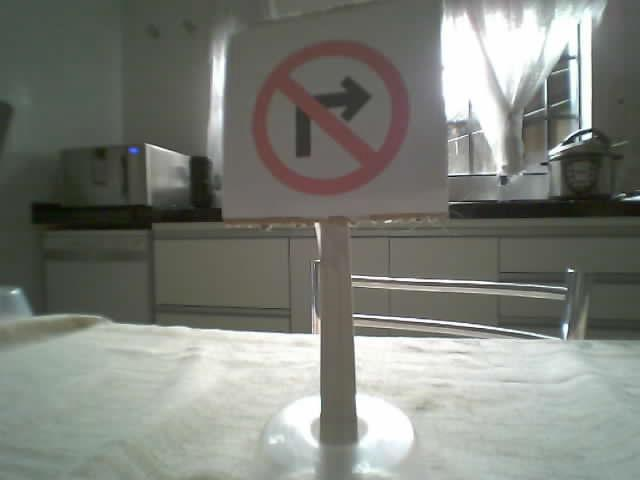R-4b_proibido-direita: (252, 40, 409, 195)
